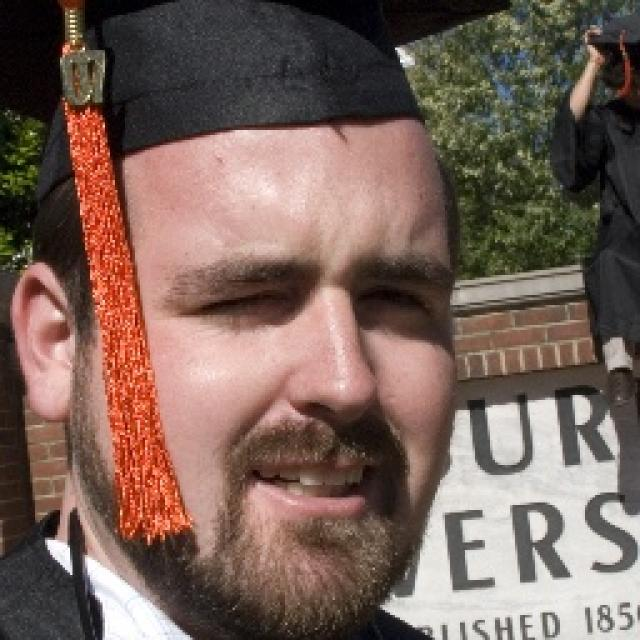earlobe: (28, 359, 76, 424)
eye: (200, 289, 282, 319), (357, 285, 427, 315)
nose: (287, 399, 395, 463)
wholeear: (10, 262, 76, 423)
